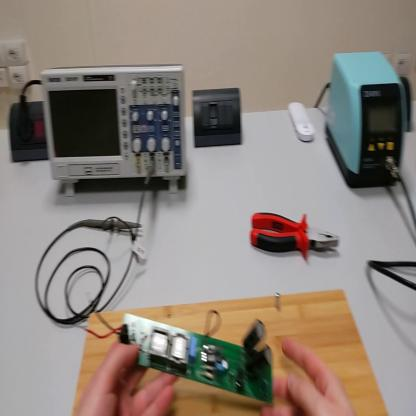hand: (76, 345, 177, 415), (261, 341, 355, 416)
high voltage board: (73, 297, 275, 407)
oscilloscope: (42, 61, 189, 200)
oscilloscope probe tip: (81, 215, 142, 236)
pliers: (252, 209, 340, 262)
socket: (10, 102, 49, 164), (402, 77, 415, 136)
welder station: (327, 53, 407, 192)
working area: (78, 289, 389, 414)
